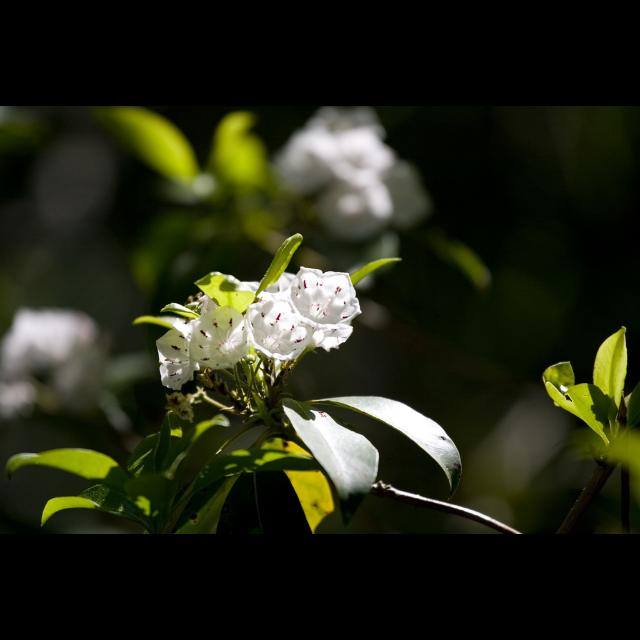Flower: (260, 268, 360, 348), (184, 308, 252, 374), (248, 299, 310, 363), (159, 317, 207, 387)
